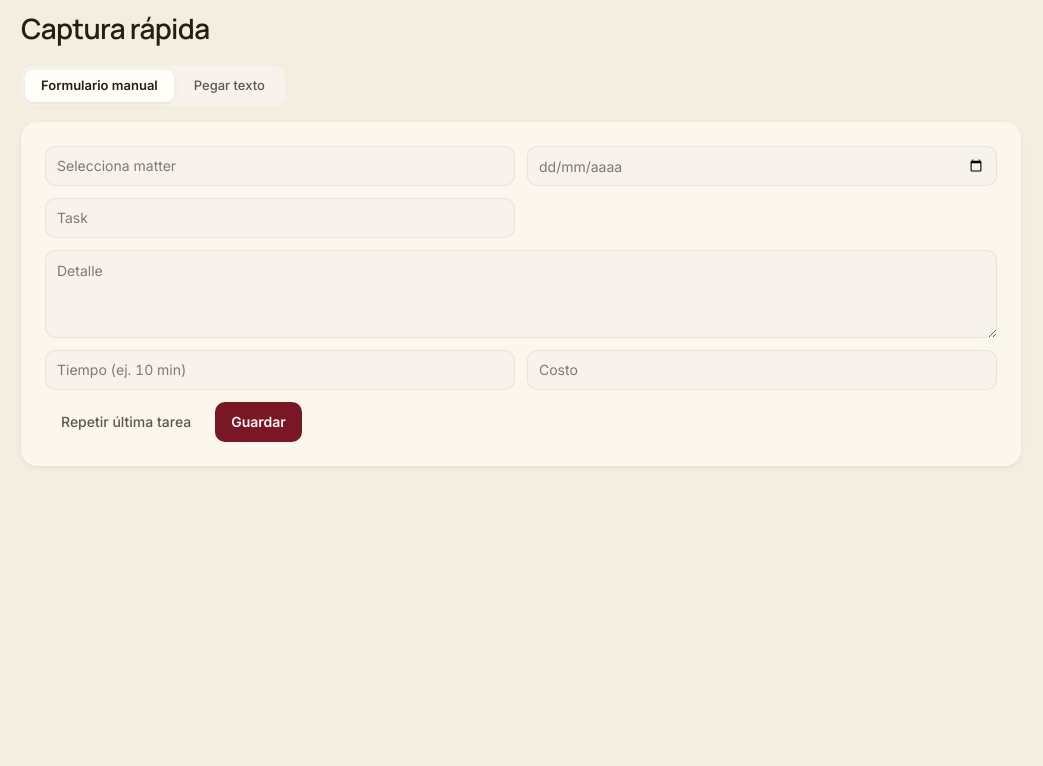
it: Home › paste mode: a candidate with no matter cannot be confirmed
Click the button "Pegar texto" at (229, 86), box [178,70,281,102]
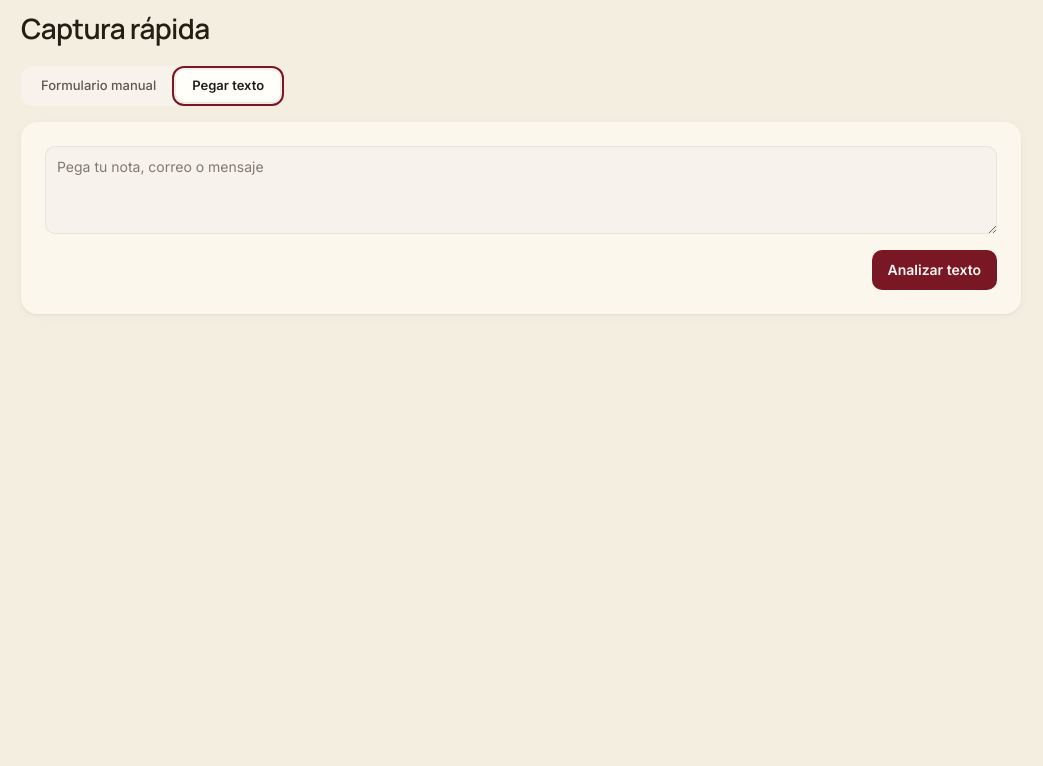
Type "Reviewed filing. July 21. 10 min" into the text box named "texto a pegar" at (521, 190), box [45,146,997,234]
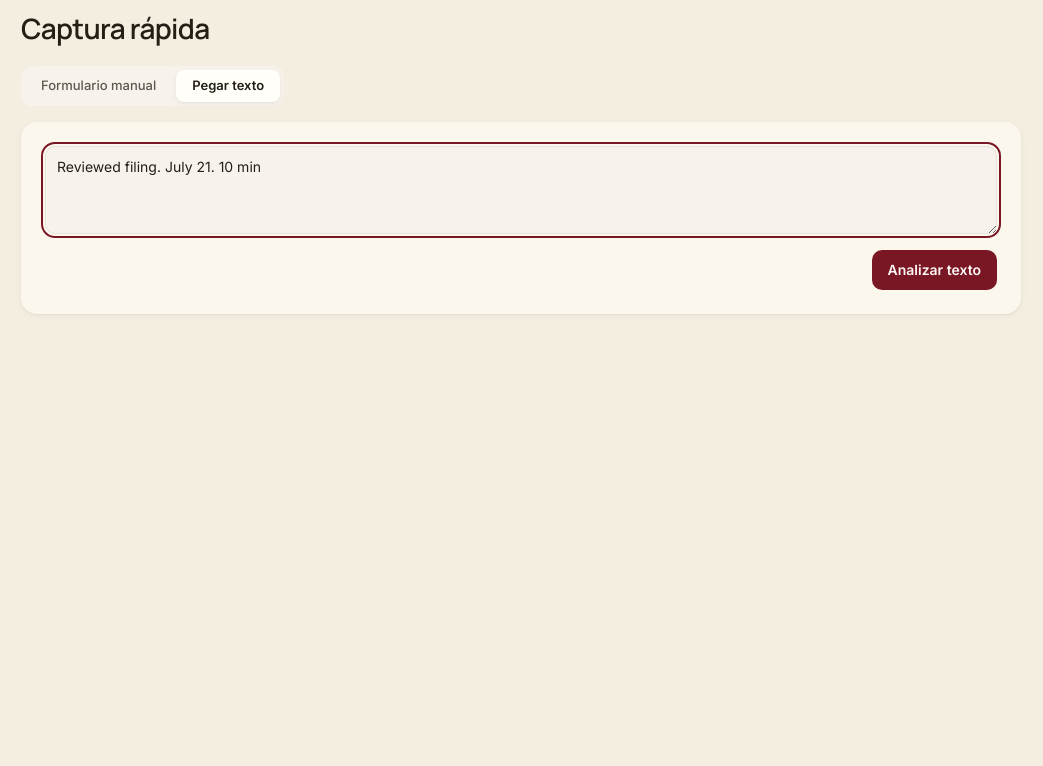
Click the button "Analizar texto" at (934, 270), box [872,250,997,290]
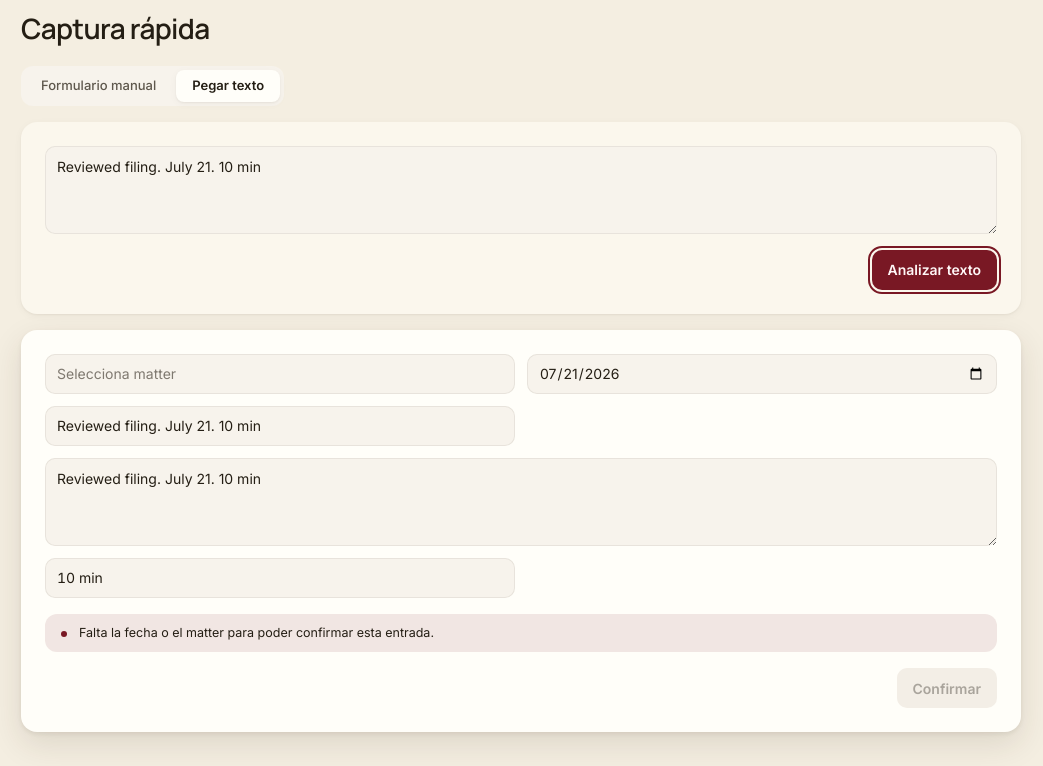
Now the button "Confirmar" is disabled, box [896,668,997,708]
Now the message shows "Falta la fecha o el matter", box [79,625,434,640]
Click the dropdown named "matter sugerido 0" at (280, 374), box [45,354,515,394]
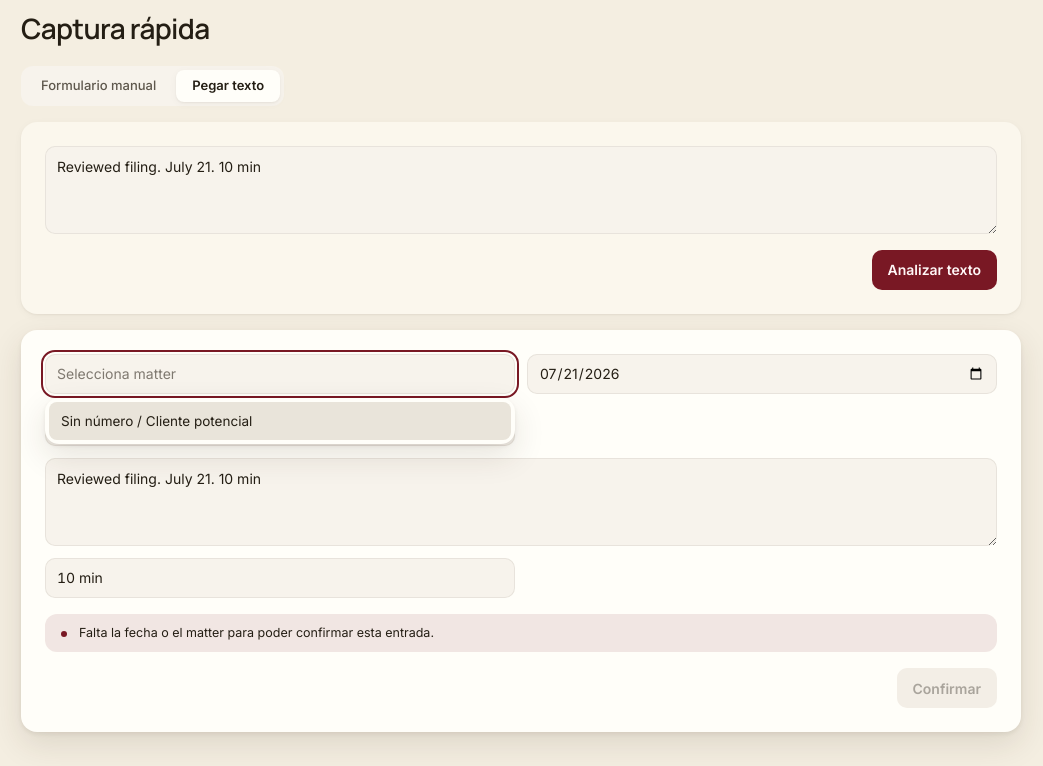
Click the option "Sin número / Cliente potencial" at (157, 421), box [49,402,511,440]
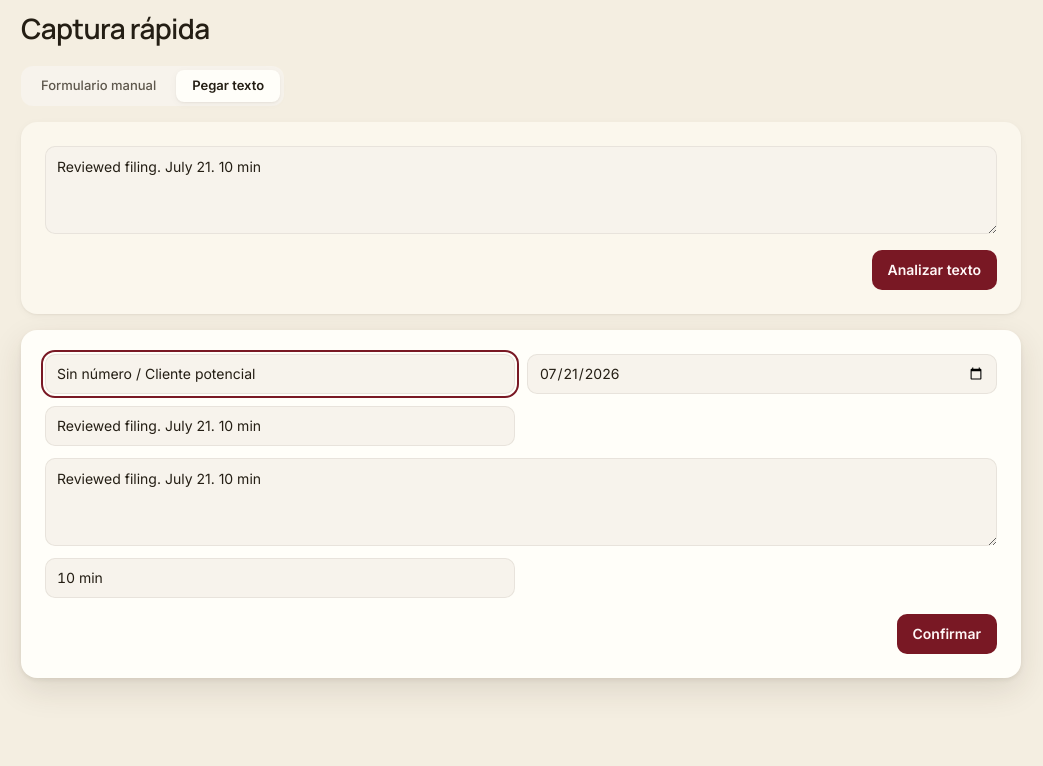
Now the button "Confirmar" is enabled, box [896,614,997,654]
